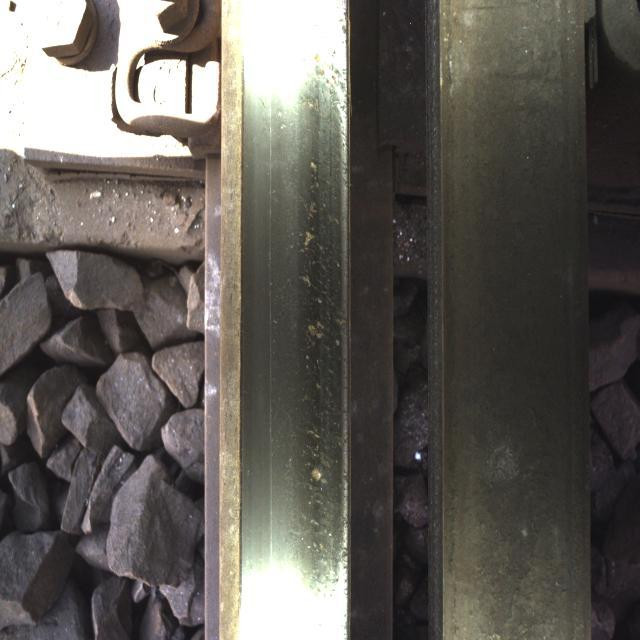normal: (243, 76, 335, 579)
